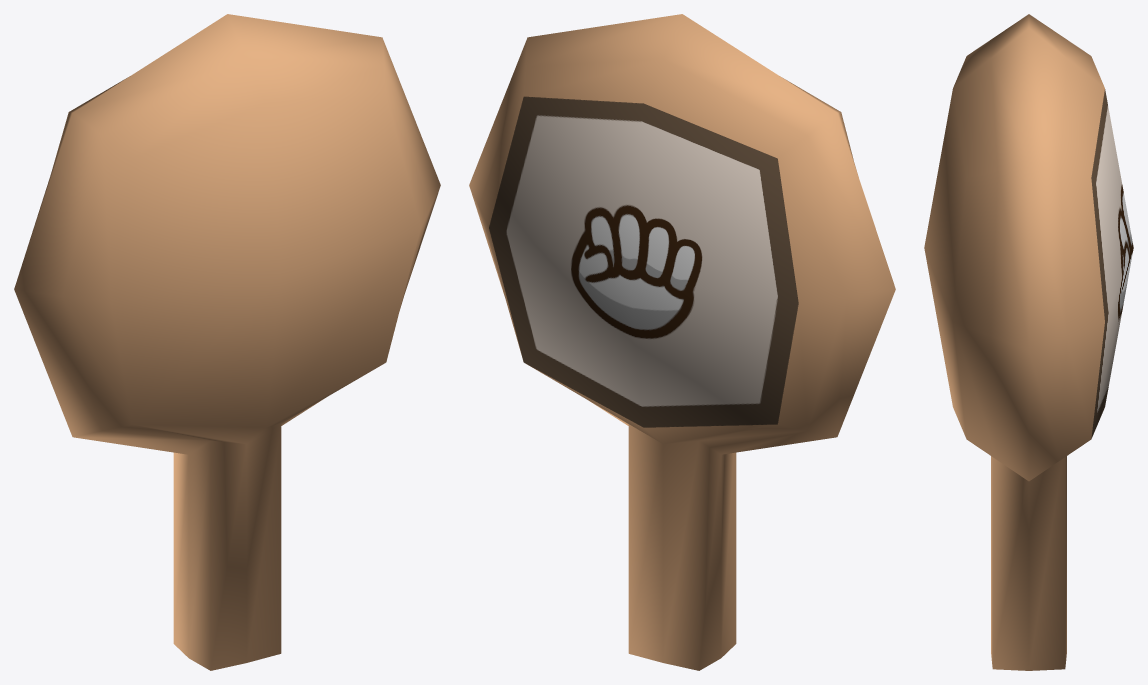
The model's file is Brand_Stone.fbx.
The picture shows the model from 3 angles, left to right: view 1: azimuth 30°, elevation 25°; view 2: azimuth 150°, elevation 25°; view 3: azimuth 270°, elevation 25°; orthographic projection.
Visible parts, largest first — view 1: Cube.002; view 2: Cube.002; view 3: Cube.002.
Boxes of the visible parts, x1,y1,x2,y2 form: Cube.002: [14, 14, 440, 670]; Cube.002: [469, 14, 895, 670]; Cube.002: [924, 14, 1133, 670].
Bounding box in the file's own units: 168 × 239 × 72.58.
Materials: 1 (1 with a texture image).
